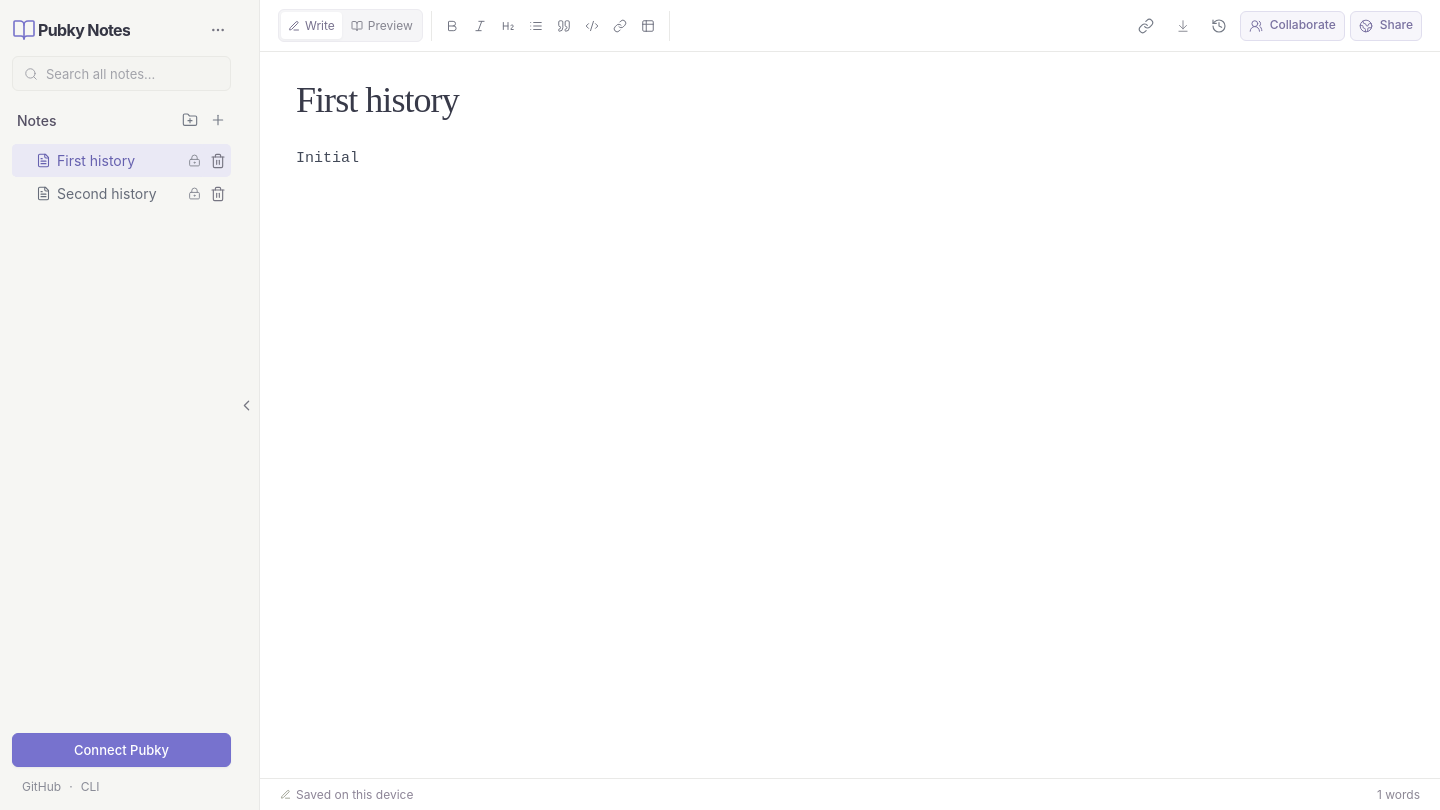
Test: durable local notes and account synchronization › records saved versions after an idle pause and flushes pending text before switching notes
Check: the button "Connect Pubky" is enabled, box left=12, top=733, right=231, bottom=767
Replace the text in the text box named "Markdown content" with "Paused text" at (850, 452), box left=296, top=145, right=1404, bottom=760
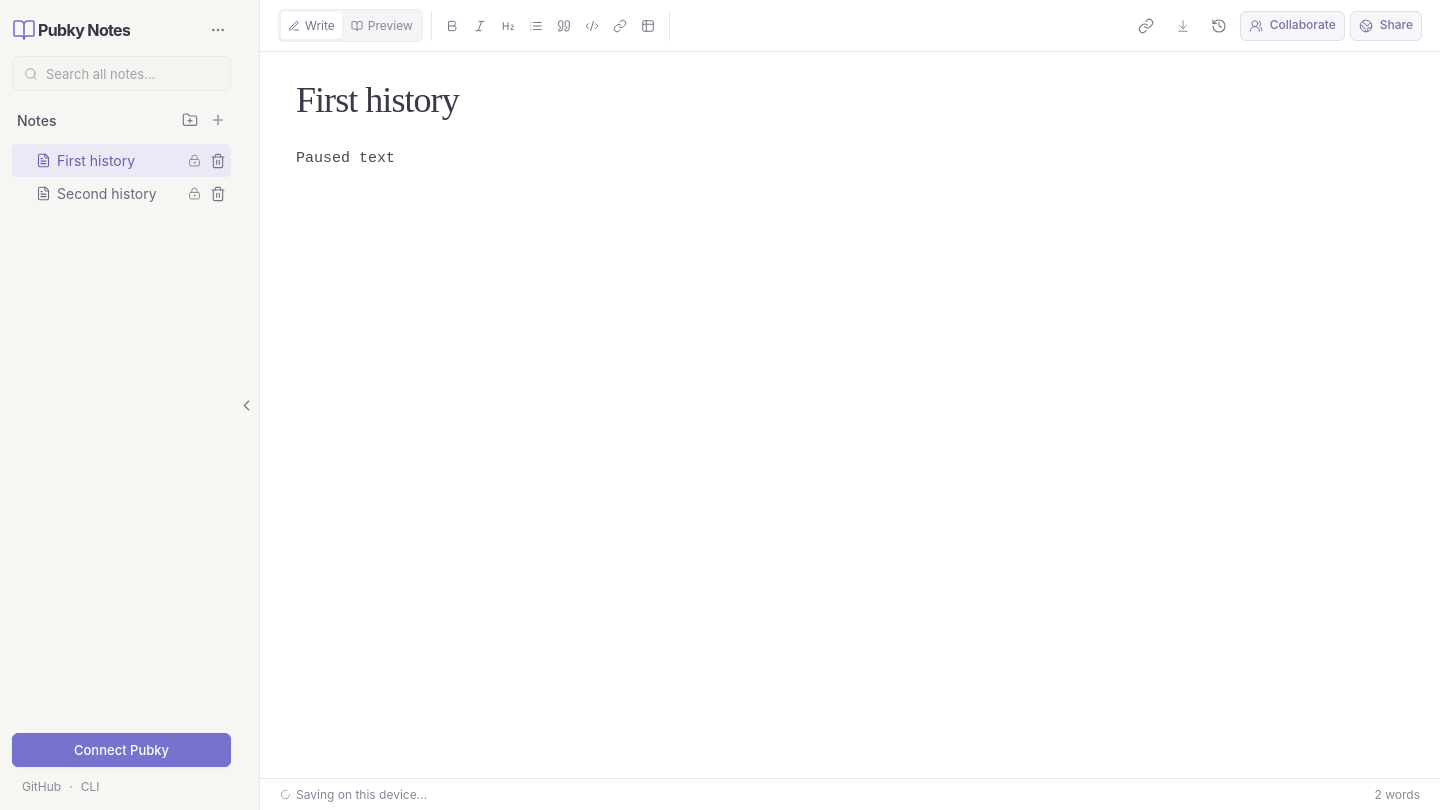
Replace the text in the text box named "Markdown content" with "Saved on switching" at (850, 452), box left=296, top=145, right=1404, bottom=760
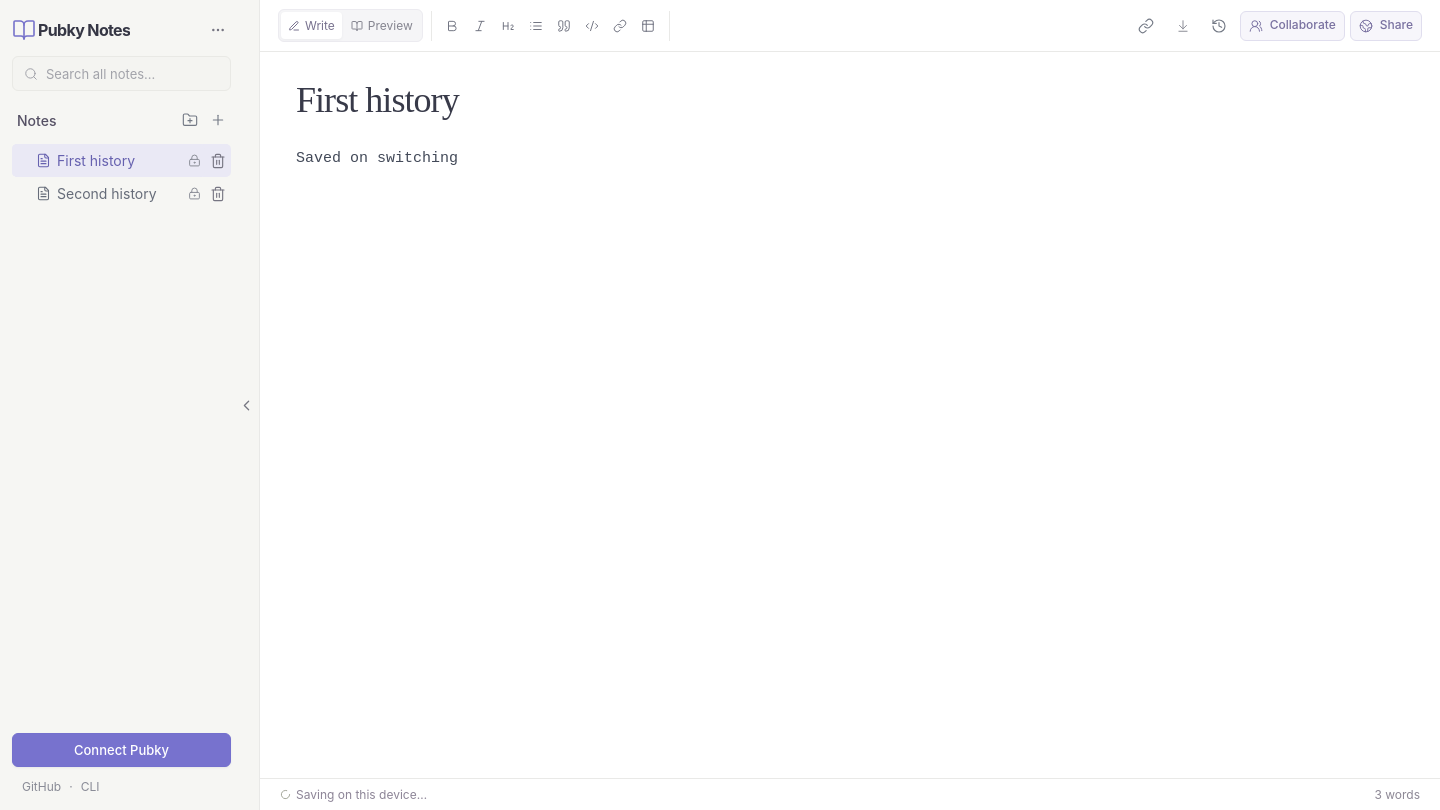
Click the button with aria-label "Open note Second history" at (108, 194), box left=12, top=177, right=205, bottom=210
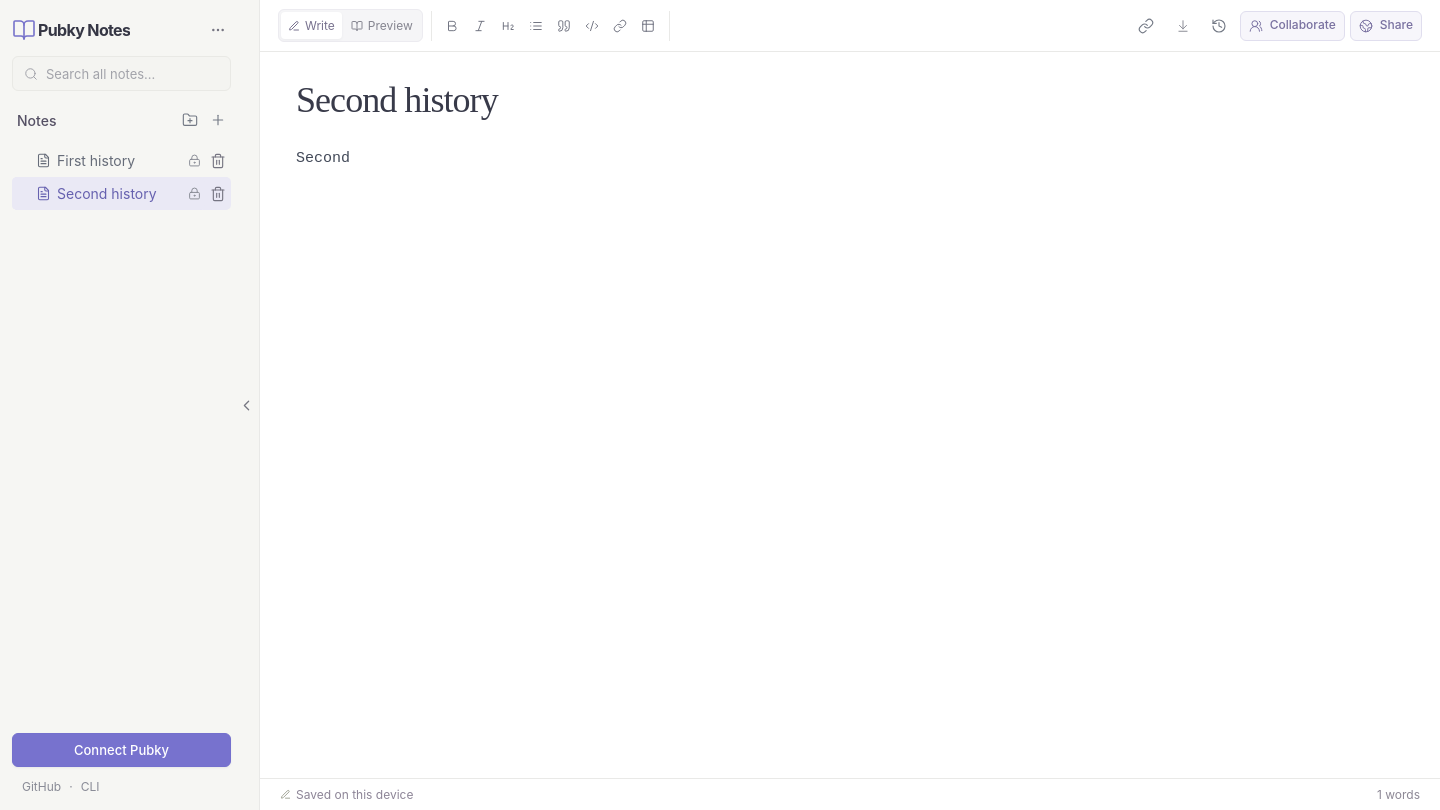
Check: the text box showing "Second" is shown, box left=296, top=145, right=1404, bottom=760
